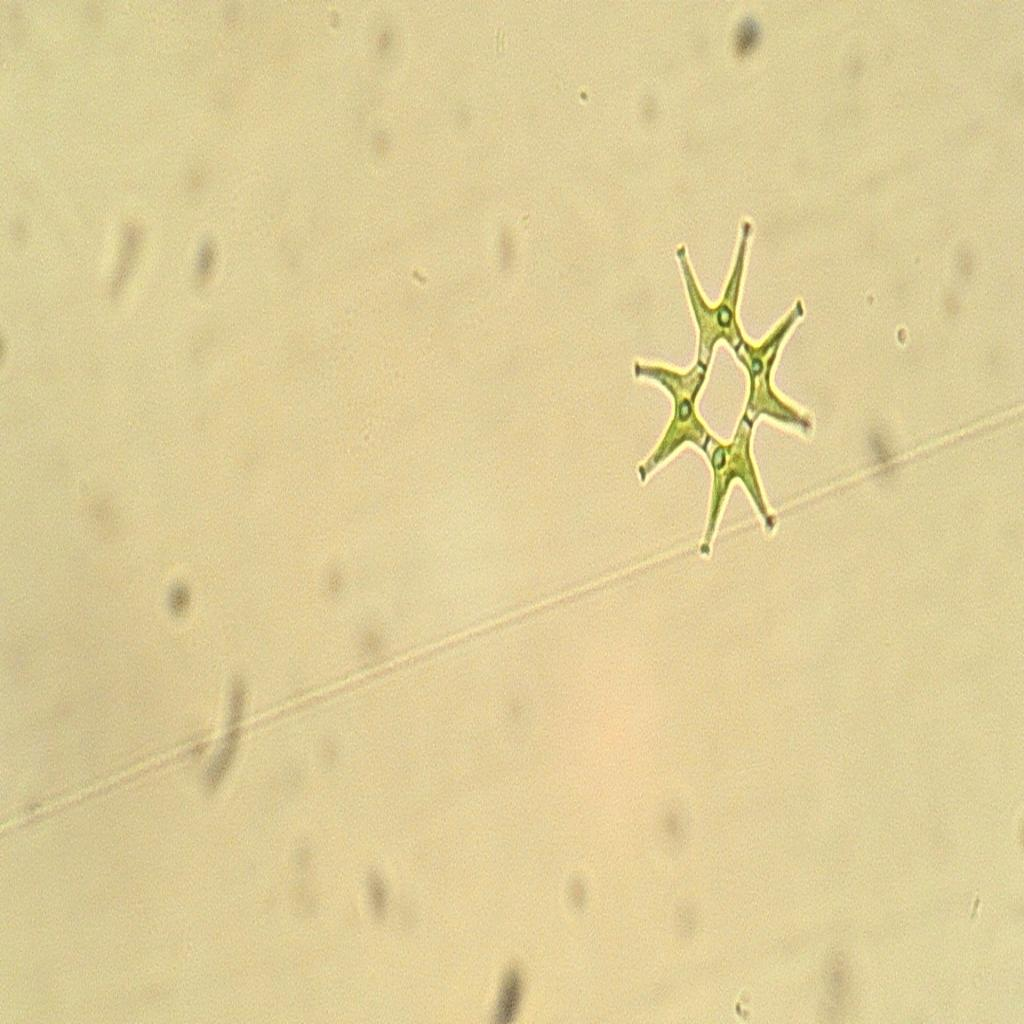Pediastrum_10: (612, 174, 835, 592)
